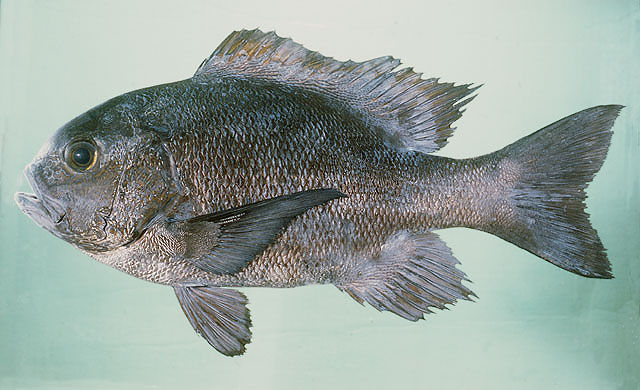fish: (14, 26, 628, 357)
